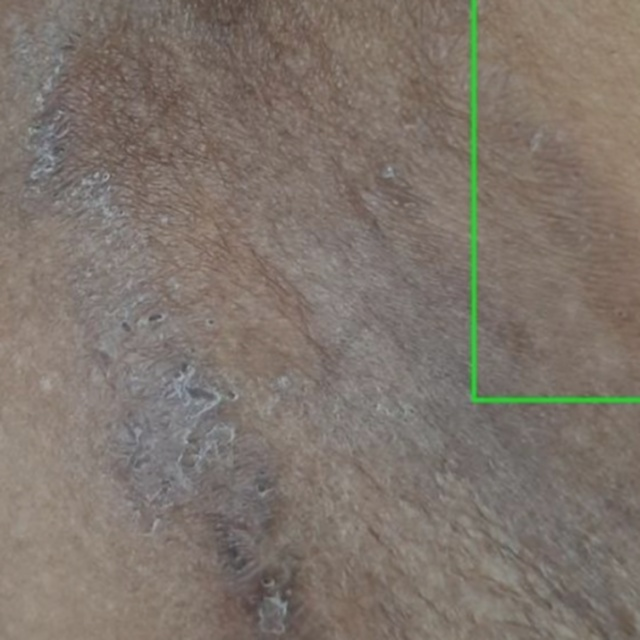Contact Dermatitis: (474, 0, 639, 399)
